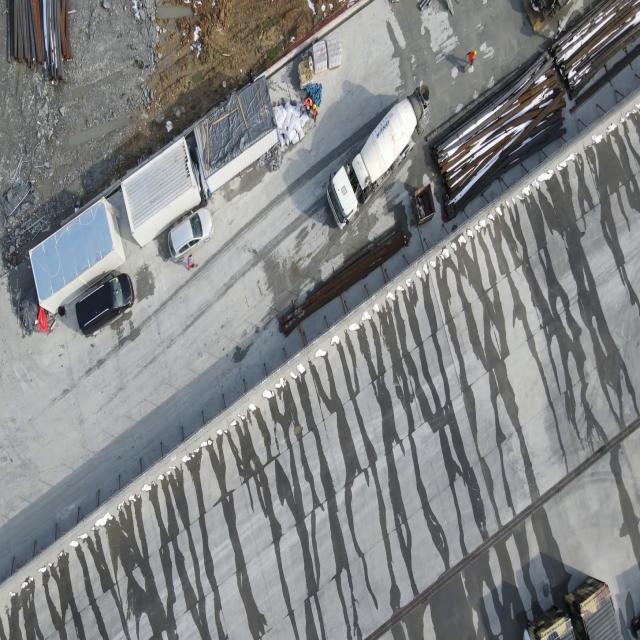p3rson: (463, 50, 476, 68), (187, 253, 198, 270), (303, 97, 312, 115), (311, 103, 318, 122)
